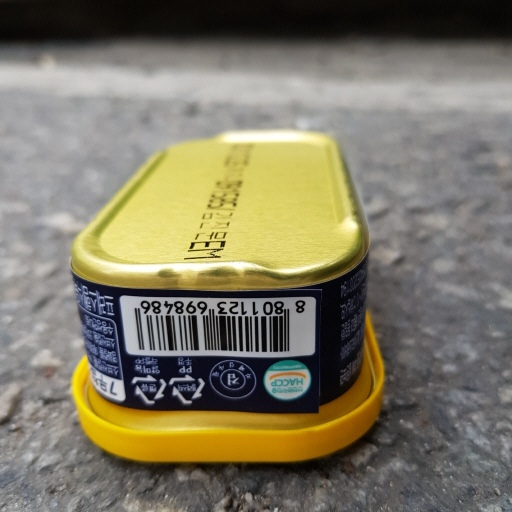Metal_2: (65, 130, 389, 468)
